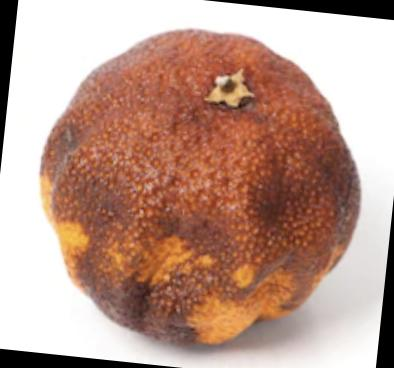Orange Rotten: (19, 3, 382, 368)
